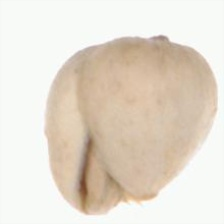L3: (74, 165, 160, 216)
L4: (44, 34, 218, 216)
